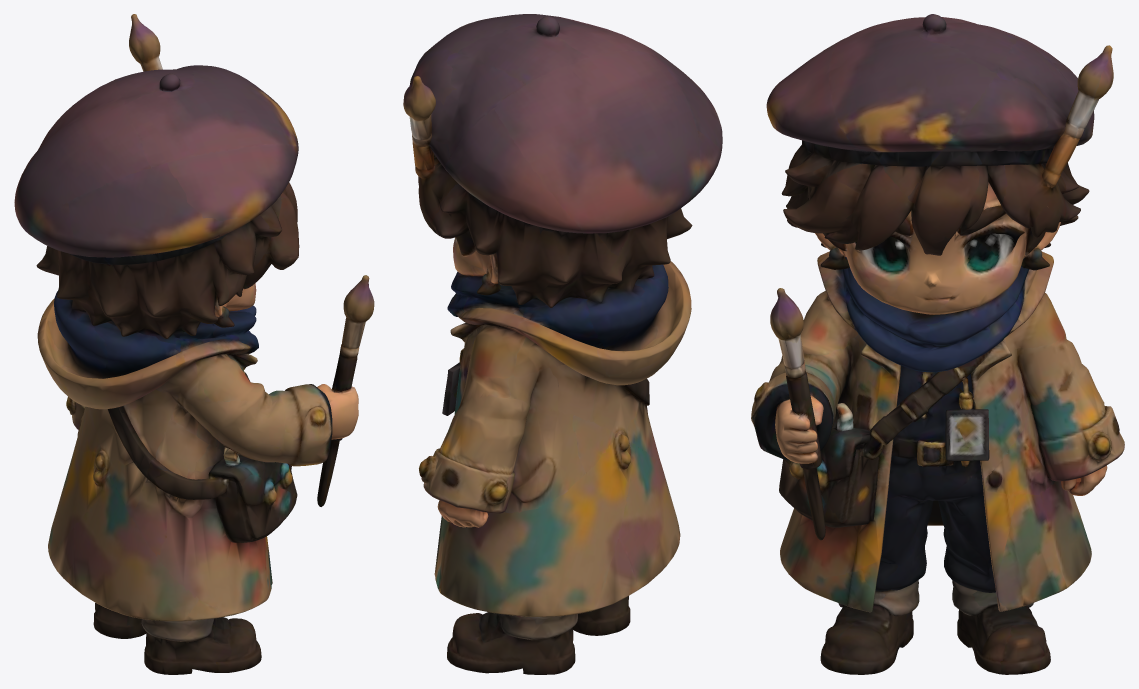
Rendered from painter.glb.
The picture shows the model from 3 angles, left to right: view 1: azimuth 30°, elevation 25°; view 2: azimuth 150°, elevation 25°; view 3: azimuth 270°, elevation 25°; orthographic projection. The views are drawn at different scales.
Parts seen in each view (by area): view 1: tripo_node_387fb79b-6a05-443d-ac2f-90cbe7b9faf9; view 2: tripo_node_387fb79b-6a05-443d-ac2f-90cbe7b9faf9; view 3: tripo_node_387fb79b-6a05-443d-ac2f-90cbe7b9faf9.
Part boxes in pixels (bbox=[...]): tripo_node_387fb79b-6a05-443d-ac2f-90cbe7b9faf9: bbox=[14, 14, 374, 674]; tripo_node_387fb79b-6a05-443d-ac2f-90cbe7b9faf9: bbox=[403, 14, 722, 674]; tripo_node_387fb79b-6a05-443d-ac2f-90cbe7b9faf9: bbox=[751, 14, 1124, 674].
Bounding box in the file's own units: 0.5036 × 0.9996 × 0.5343.
1 material, 1 textured.
